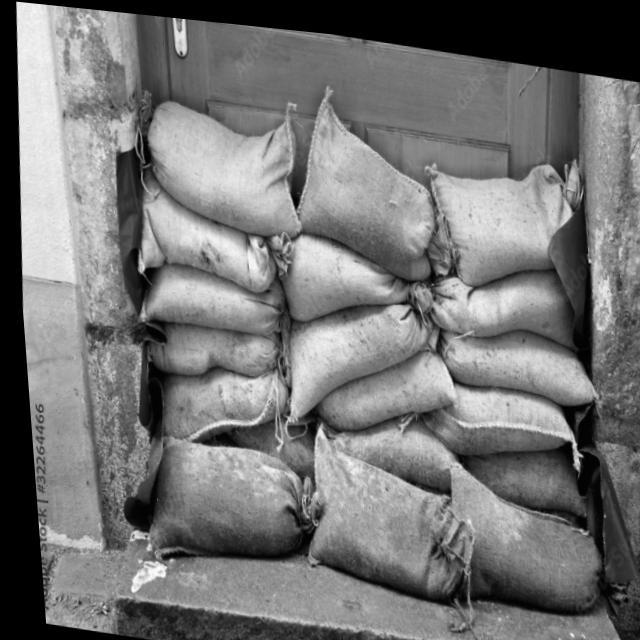sack: (291, 418, 474, 600), (283, 74, 443, 275), (133, 430, 321, 578), (437, 448, 601, 611), (136, 83, 303, 235), (273, 278, 434, 435), (416, 135, 577, 291), (126, 172, 296, 294), (275, 223, 435, 335), (305, 322, 454, 440), (420, 242, 573, 340), (414, 365, 573, 458), (431, 307, 595, 396), (148, 347, 286, 450), (133, 255, 288, 335), (317, 398, 452, 484), (457, 428, 581, 507), (138, 315, 277, 385)
